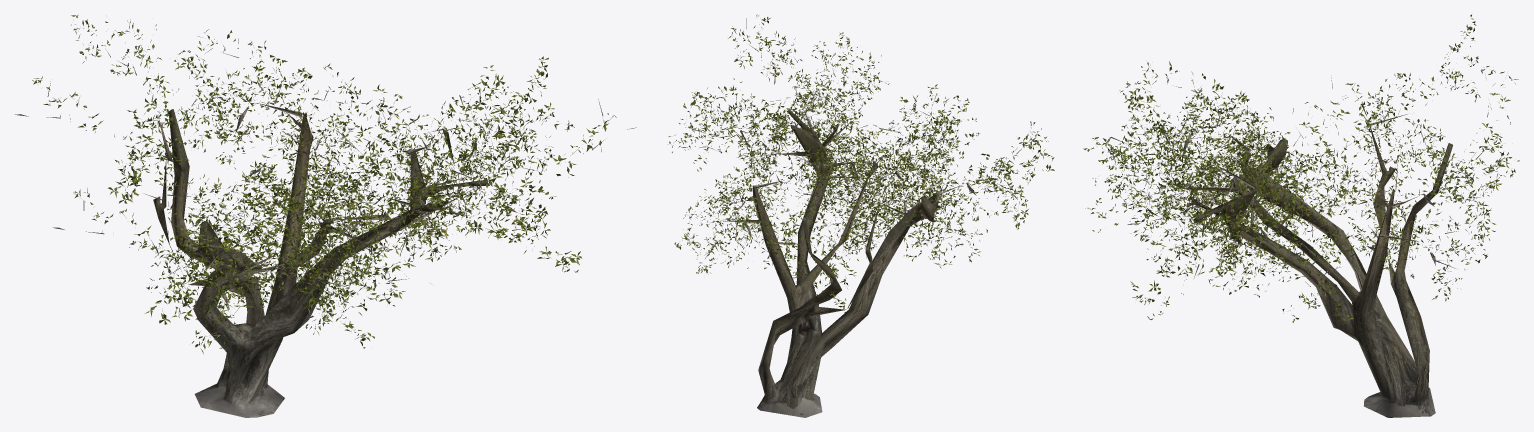
File: island_tree_02.glb
The picture shows the model from 3 angles, left to right: view 1: azimuth 30°, elevation 25°; view 2: azimuth 150°, elevation 25°; view 3: azimuth 270°, elevation 25°; orthographic projection. The views are drawn at different scales.
Parts seen in each view (by area): view 1: island_tree_02_LOD0; view 2: island_tree_02_LOD0; view 3: island_tree_02_LOD0.
Part boxes in pixels (box(x1,y1,x2,y2)): island_tree_02_LOD0: box(15, 15, 636, 417); island_tree_02_LOD0: box(667, 14, 1054, 417); island_tree_02_LOD0: box(1083, 14, 1519, 417).
Bounding box in the file's own units: 4.21 × 3.39 × 4.02.
3 materials, 3 textured.
